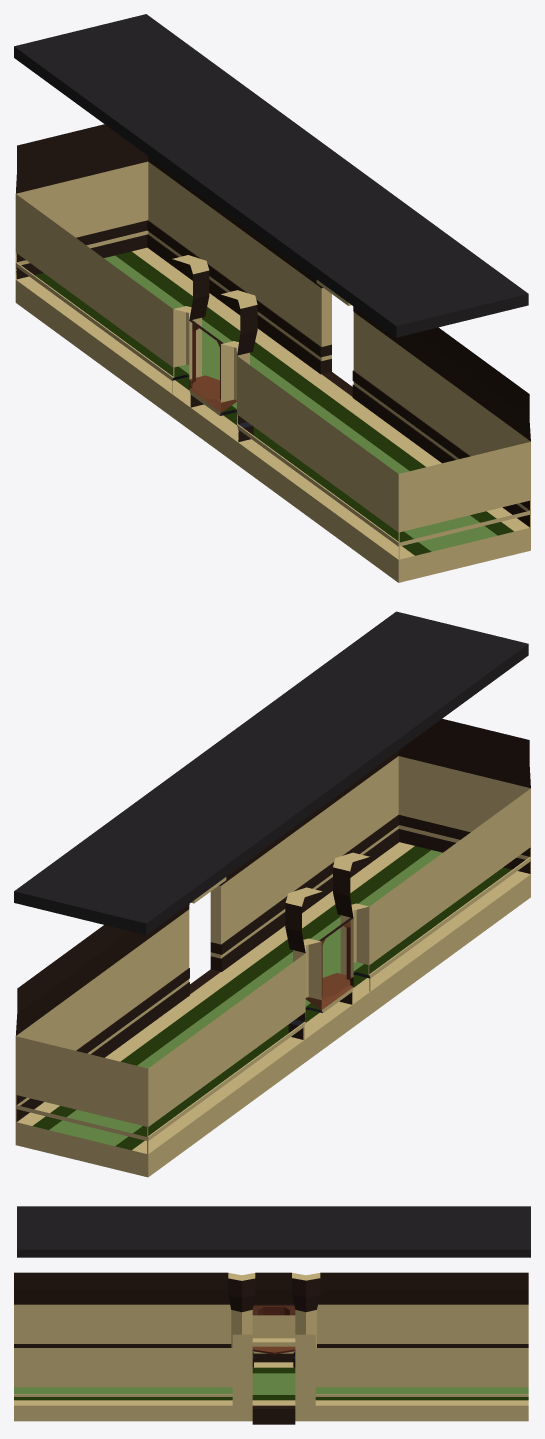
File: floorHallwayAndCeiling2.fbx
3 renders of one model, top to bottom at view 1: azimuth 30°, elevation 25°; view 2: azimuth 150°, elevation 25°; view 3: azimuth 270°, elevation 25°, orthographic. The views are drawn at different scales.
Parts seen in each view (by area): view 1: hallway, Cube.001; view 2: hallway, Cube.001; view 3: hallway, Cube.001.
Boxes of the visible parts, x1,y1,x2,y2 form: hallway: (15, 124, 530, 582); Cube.001: (14, 14, 528, 337); hallway: (15, 718, 530, 1177); Cube.001: (14, 611, 528, 934); hallway: (14, 1272, 528, 1424); Cube.001: (17, 1206, 530, 1257).
Bounding box in the file's own units: 335 × 552 × 1509.
